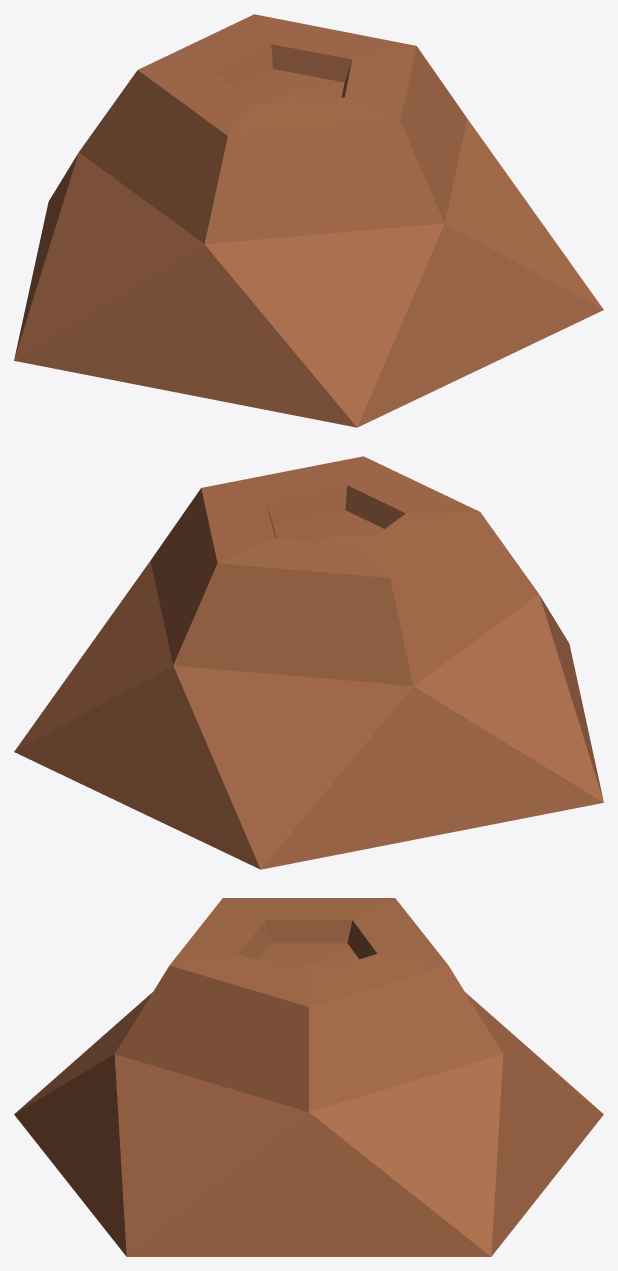
File: buraco plantacao.fbx
3 renders of one model, top to bottom at view 1: azimuth 30°, elevation 25°; view 2: azimuth 150°, elevation 25°; view 3: azimuth 270°, elevation 25°, orthographic. The views are drawn at different scales.
Visible parts, largest first — view 1: Icosphere; view 2: Icosphere; view 3: Icosphere.
Part boxes in pixels (x1,y1,x2,y2): Icosphere: (14, 14, 603, 427); Icosphere: (14, 456, 603, 869); Icosphere: (14, 898, 603, 1256).
Bounding box in the file's own units: 112 × 49.41 × 121.
